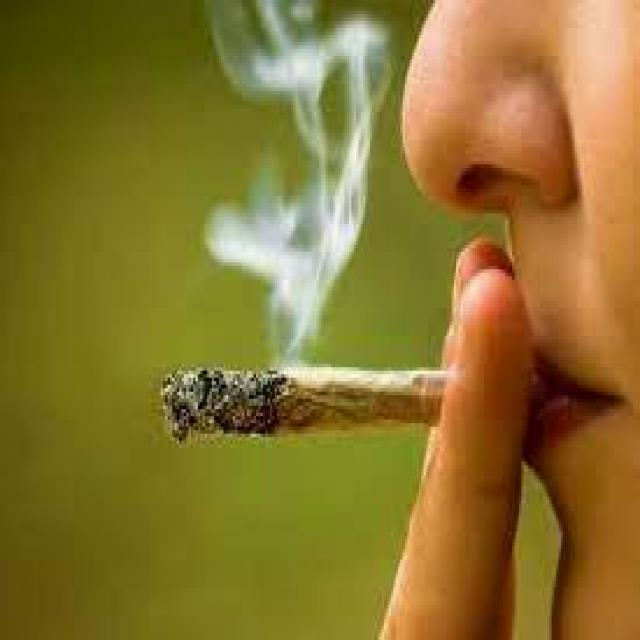smoke: (156, 322, 444, 451)
